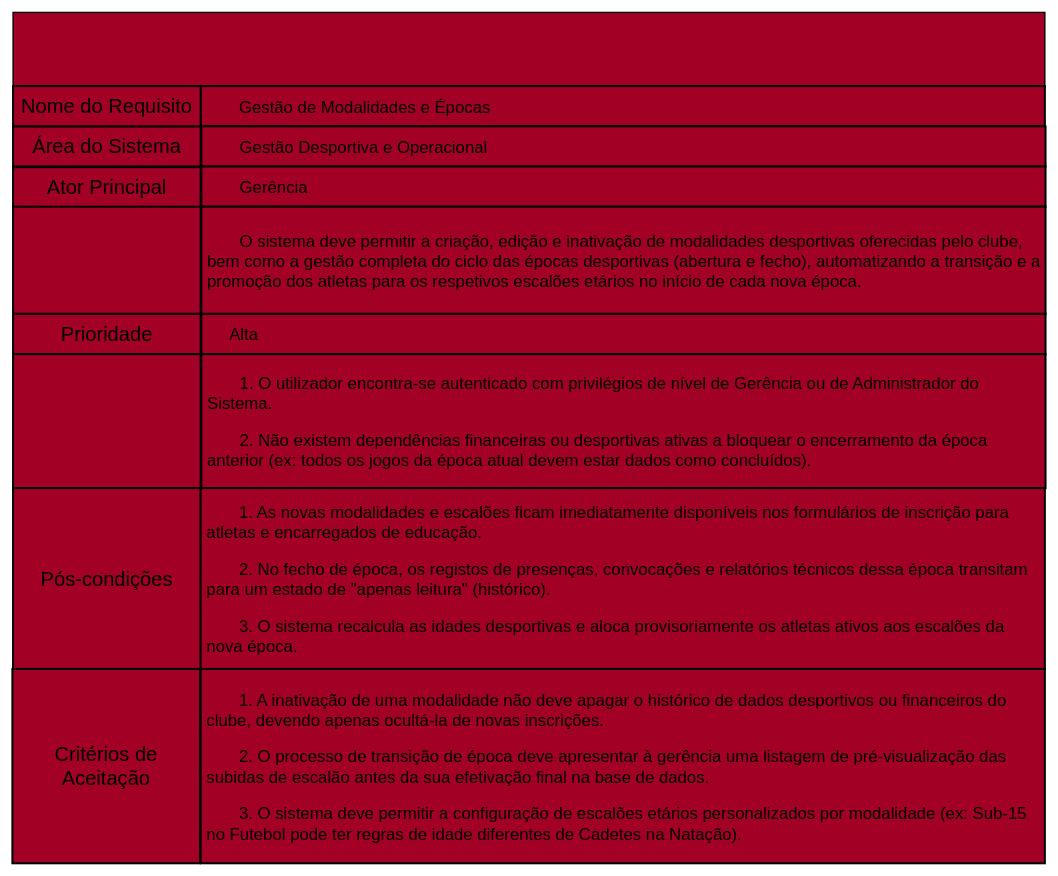
Some shapes in this 1058 by 876 pixel diagram are drawn without their labels. Each missing label, with the centre of its shape:
Descrição: pixel 106 260
Pré-condições: pixel 106 421
RF-05: pixel 528 48
